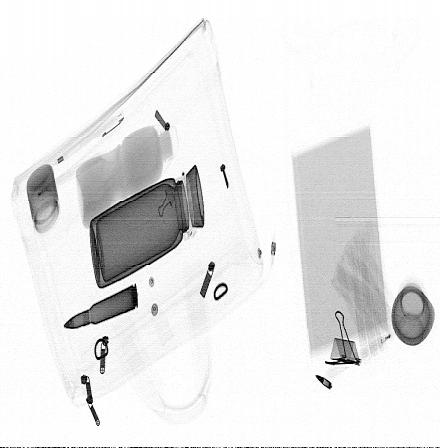Bullet: (63, 282, 138, 330), (315, 373, 332, 392)
